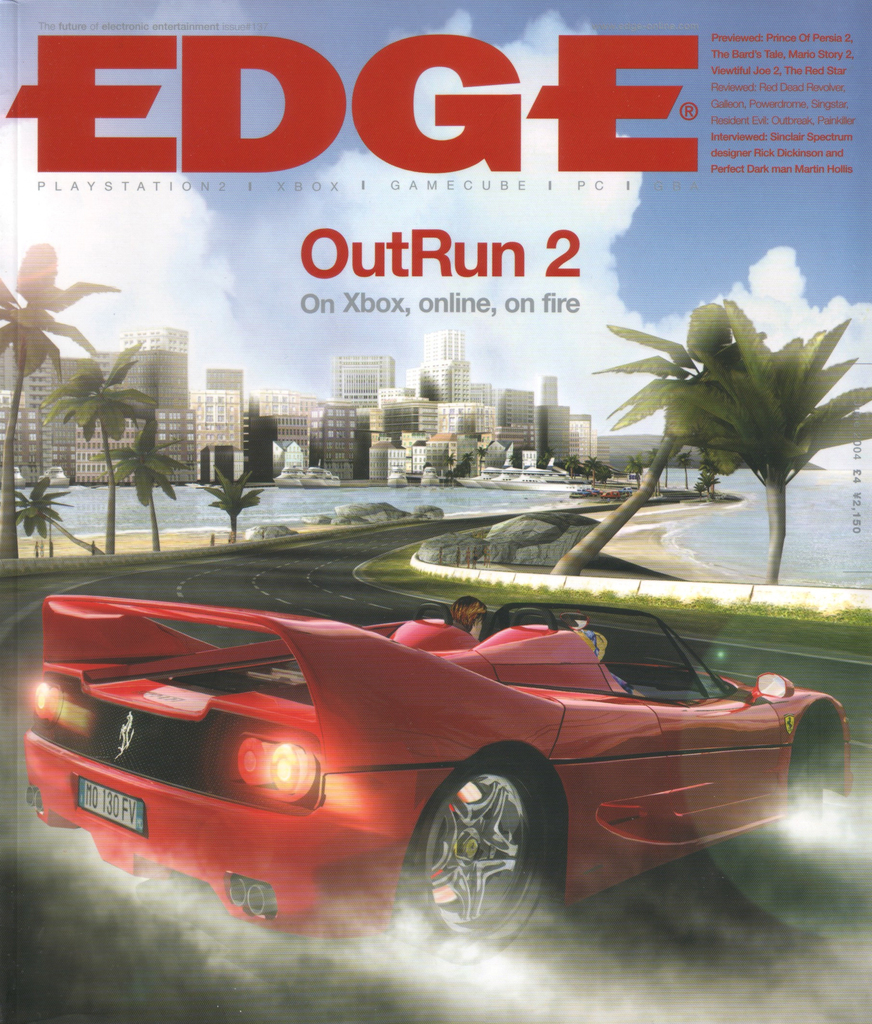Car: (10, 586, 859, 931)
